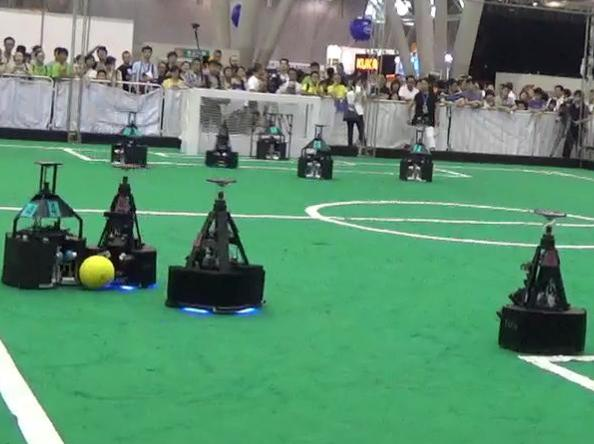robot: (497, 202, 591, 360), (166, 170, 266, 315), (2, 154, 92, 294), (88, 160, 161, 293)
